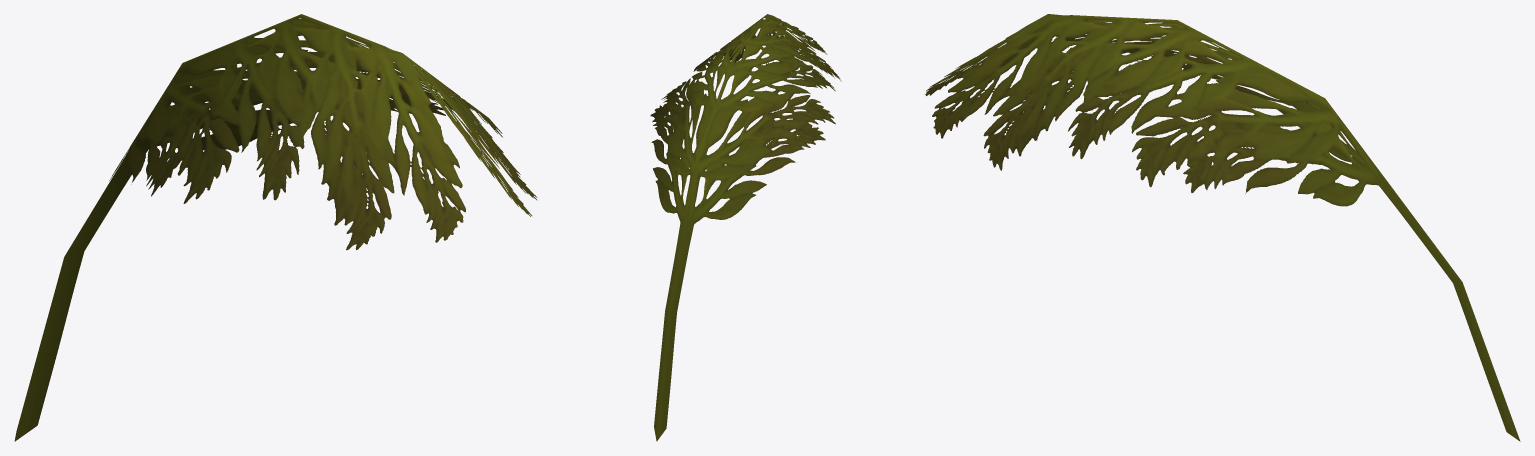
The model's file is WetLands_Fern_03.fbx.
3 views of the same model, side by side, from view 1: azimuth 30°, elevation 25°; view 2: azimuth 150°, elevation 25°; view 3: azimuth 270°, elevation 25° (orthographic). The views are drawn at different scales.
Visible parts, largest first — view 1: WetLands_Fern_03; view 2: WetLands_Fern_03; view 3: WetLands_Fern_03.
Part boxes in pixels (x1,y1,x2,y2): WetLands_Fern_03: (14,14,537,441); WetLands_Fern_03: (650,14,841,441); WetLands_Fern_03: (925,14,1520,441).
Size of the model in its own units: 1.23 by 1.82 by 2.2.
1 material, 1 textured.
